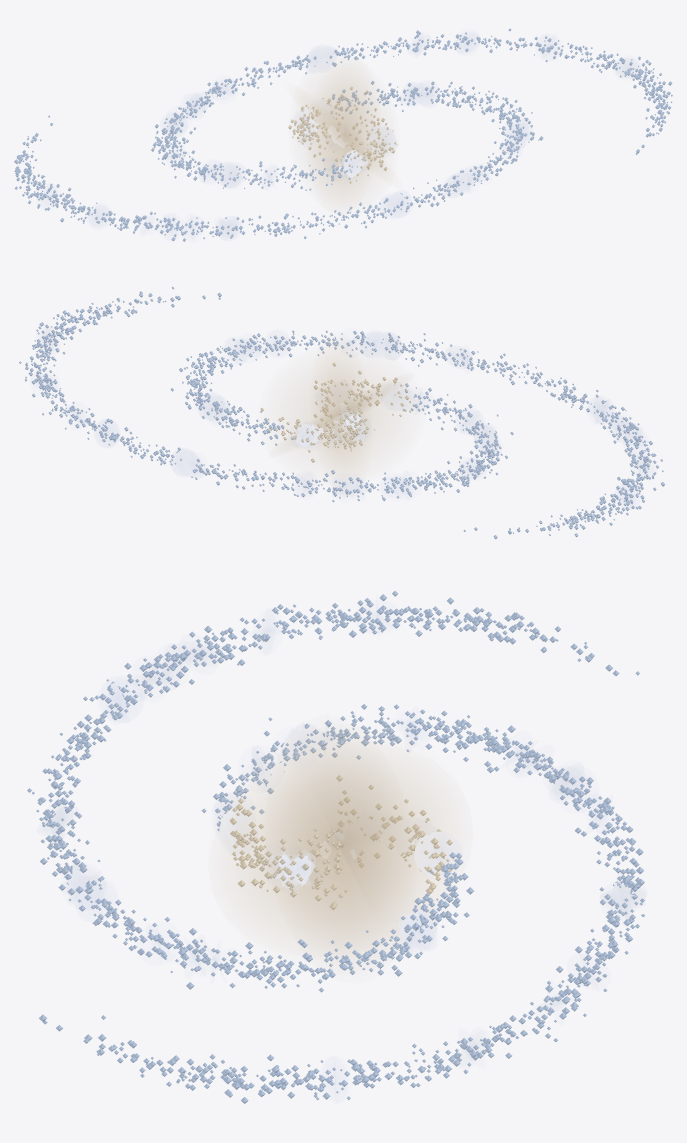
3 views of the same model, one above another, from view 1: azimuth 30°, elevation 25°; view 2: azimuth 150°, elevation 25°; view 3: azimuth 270°, elevation 25° (orthographic). The views are drawn at different scales.
Size of the model in its own units: 7.26 by 1.78 by 4.01.
